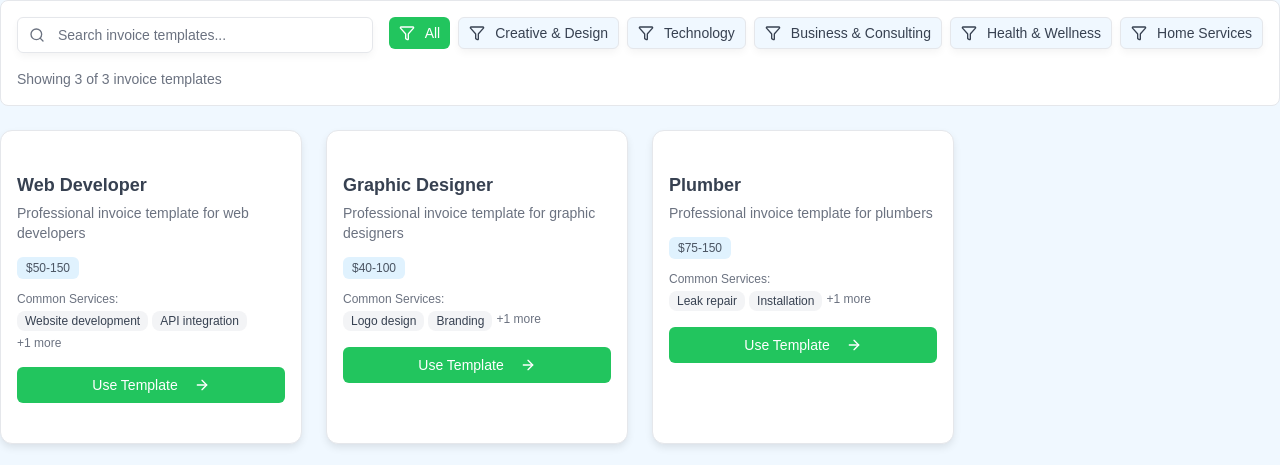
Test case: TemplateGrid › Category Filtering › should filter by Creative & Design category
Click the button "Creative & Design": [539, 33] box [458,17,619,49]
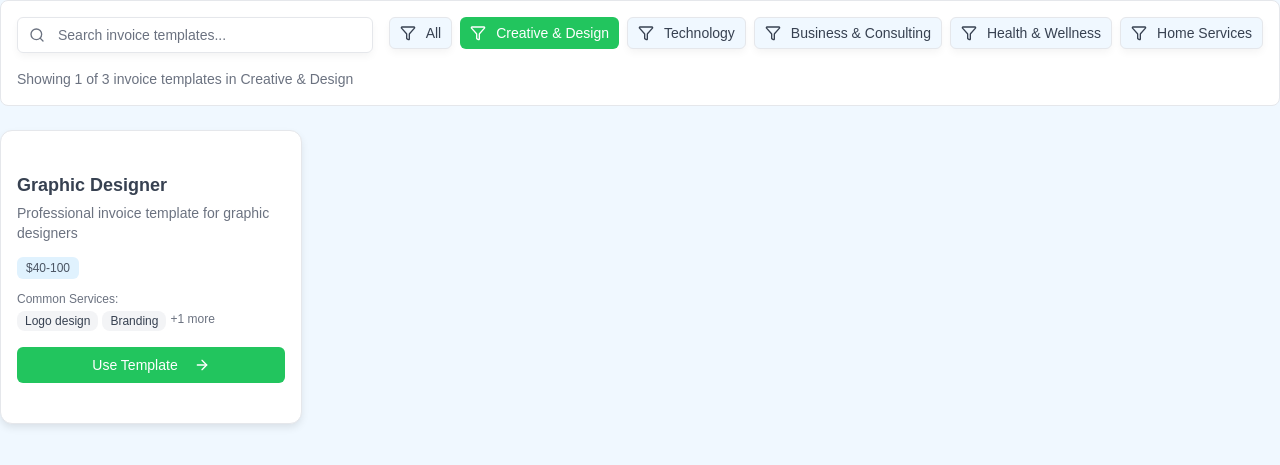
Expected: the heading "Graphic Designer" is shown, [17,175,167,195]
Now the heading "Web Developer" is gone
Now the heading "Plumber" is gone
